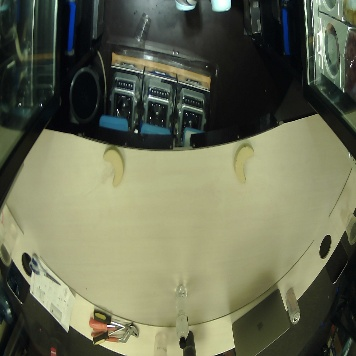empty_cup: (339, 205, 356, 244)
puck: (103, 147, 124, 188), (233, 142, 254, 183)
